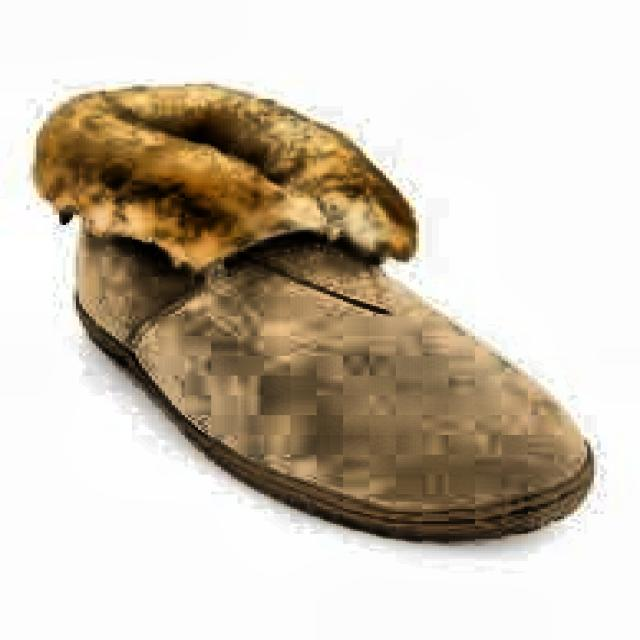shoes: (24, 82, 598, 550)
